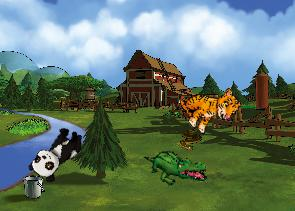crocodile: (144, 145, 208, 189)
panda: (25, 120, 88, 186)
tiger: (174, 72, 244, 140)
